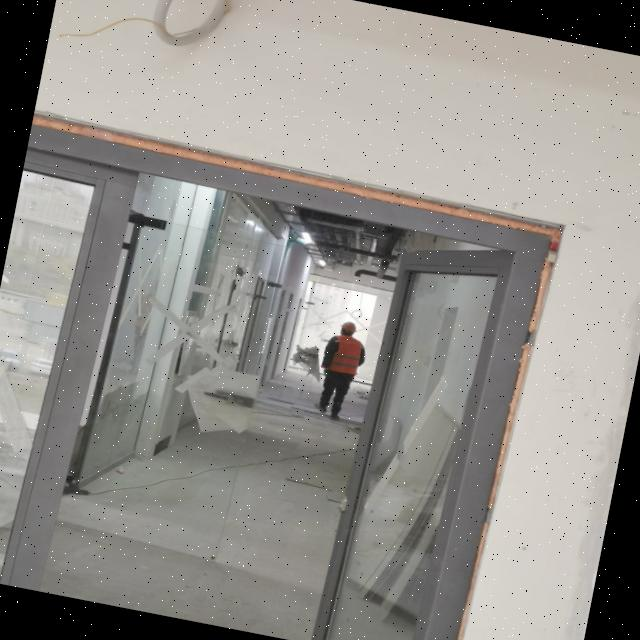Helmet: (339, 321, 361, 339)
Jacket: (329, 334, 364, 377)
